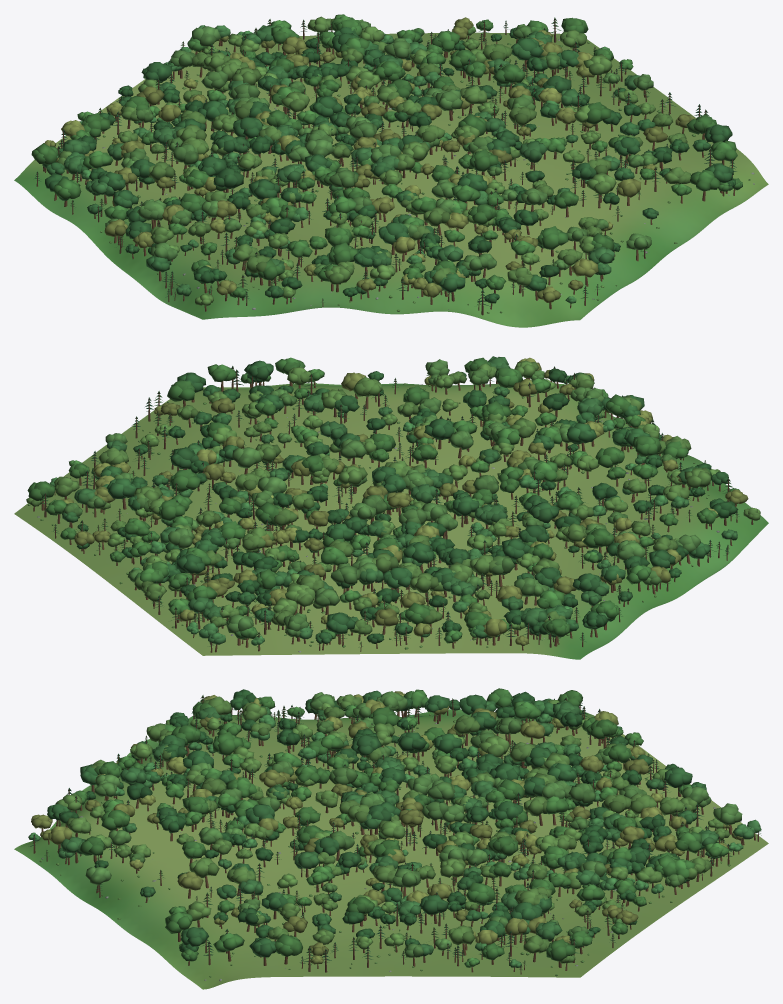
3 renders of one model, top to bottom at view 1: azimuth 30°, elevation 25°; view 2: azimuth 150°, elevation 25°; view 3: azimuth 270°, elevation 25°, orthographic.
Parts seen in each view (by area): view 1: broadleaf_canopy, terrain, trunks, conifer_canopy, shrubs; view 2: broadleaf_canopy, terrain, trunks, conifer_canopy, shrubs; view 3: broadleaf_canopy, terrain, trunks, conifer_canopy.
Part boxes in pixels (x1,y1,x2,y2): broadleaf_canopy: [31, 14, 742, 306]; terrain: [14, 32, 768, 327]; trunks: [36, 19, 735, 315]; conifer_canopy: [34, 17, 736, 306]; shrubs: [100, 37, 750, 313]; broadleaf_canopy: [26, 356, 760, 645]; terrain: [14, 383, 768, 659]; trunks: [33, 367, 753, 652]; conifer_canopy: [41, 366, 739, 647]; shrubs: [28, 383, 713, 649]; broadleaf_canopy: [28, 688, 761, 967]; terrain: [14, 709, 768, 989]; trunks: [33, 696, 758, 974]; conifer_canopy: [30, 695, 761, 970].
Bounding box in the file's own units: 4330 × 468 × 5000.
